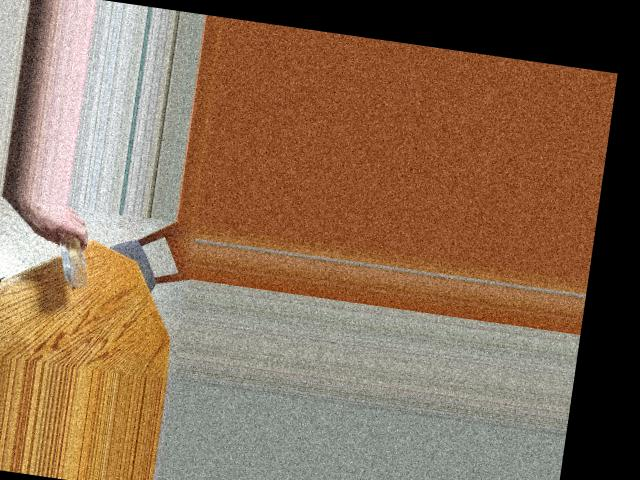cheese: (51, 232, 98, 283)
